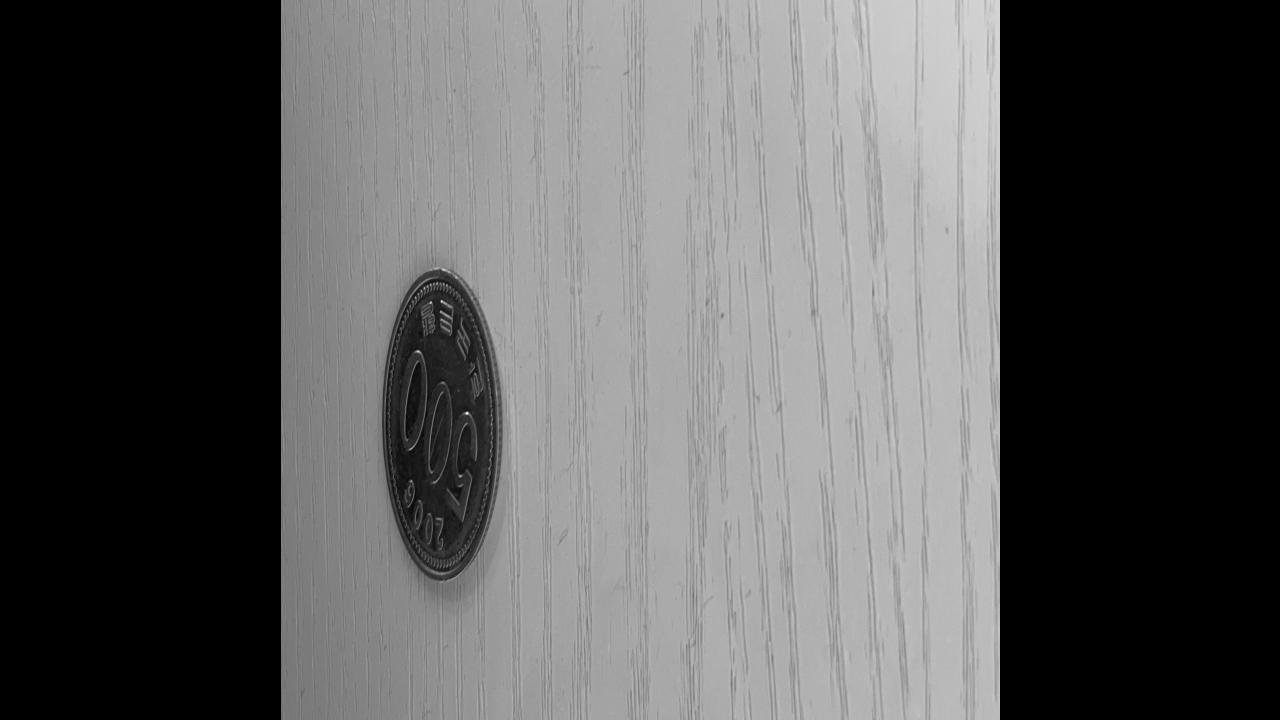coin: (384, 268, 502, 584)
